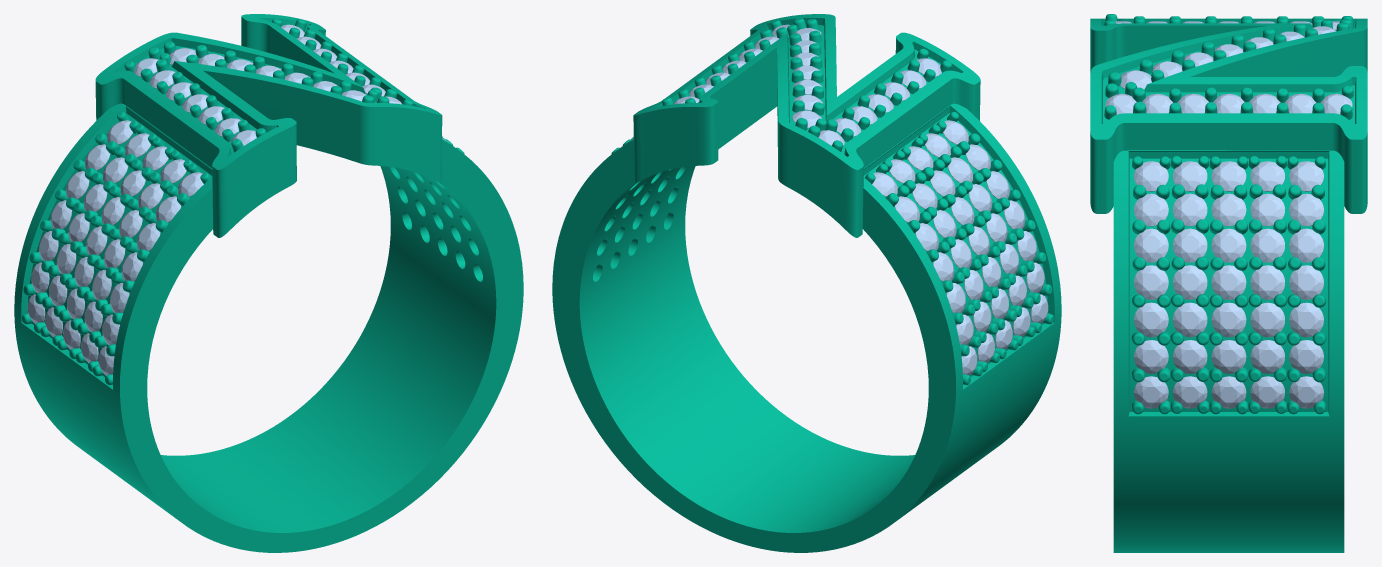
3 views of the same model, side by side, from view 1: azimuth 30°, elevation 25°; view 2: azimuth 150°, elevation 25°; view 3: azimuth 270°, elevation 25° (orthographic). The views are drawn at different scales.
Parts seen in each view (by area): view 1: nhanchu h.3dm; view 2: nhanchu h.3dm; view 3: nhanchu h.3dm, GemOnCrv (×35), Diamond_Round (×8).
Part boxes in pixels (x1=…): nhanchu h.3dm: x1=14, y1=14, x2=523, y2=552; nhanchu h.3dm: x1=552, y1=14, x2=1061, y2=552; nhanchu h.3dm: x1=1090, y1=18, x2=1367, y2=552; GemOnCrv (×35): x1=1134, y1=161, x2=1323, y2=408; Diamond_Round (×8): x1=1105, y1=70, x2=1352, y2=114.
Bounding box in the file's own units: 2.6 × 2.7 × 1.4.
